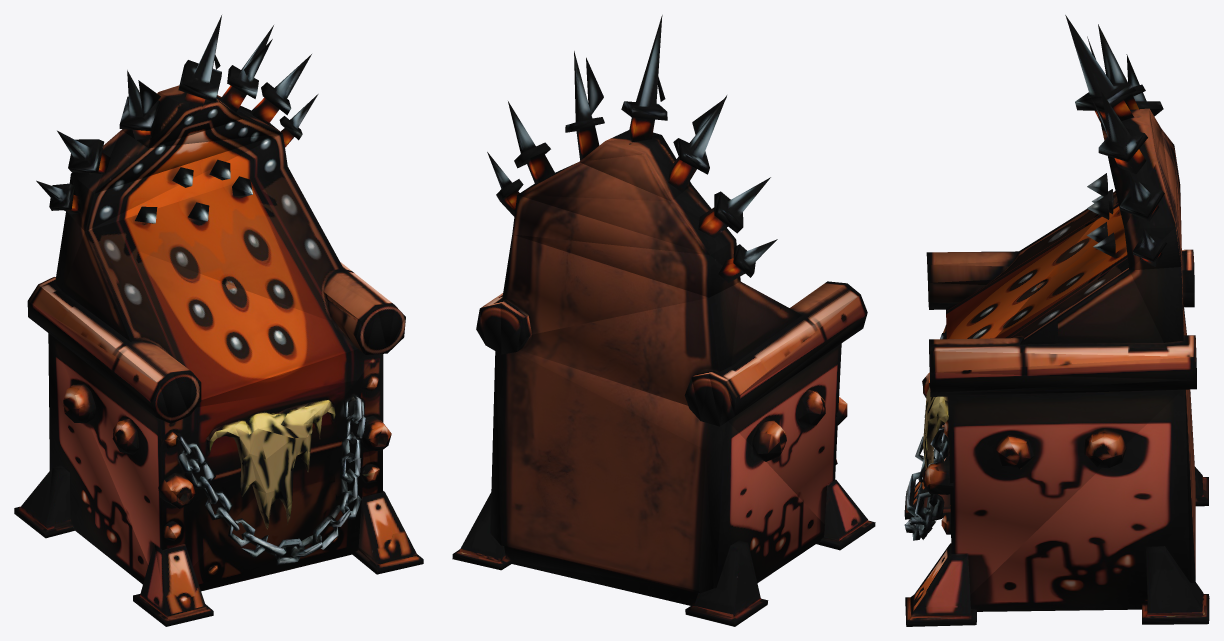
Rendered from seat_throne.glb.
The picture shows the model from 3 angles, left to right: view 1: azimuth 30°, elevation 25°; view 2: azimuth 150°, elevation 25°; view 3: azimuth 270°, elevation 25°; orthographic projection. The views are drawn at different scales.
Parts seen in each view (by area): view 1: tripo_node_3ef32aa9; view 2: tripo_node_3ef32aa9; view 3: tripo_node_3ef32aa9.
Boxes of the visible parts, <box> form: tripo_node_3ef32aa9: <box>14,15,423,626</box>; tripo_node_3ef32aa9: <box>452,15,875,626</box>; tripo_node_3ef32aa9: <box>904,15,1209,626</box>.
Bounding box in the file's own units: 0.5706 × 0.9984 × 0.5027.
Materials: 1 (1 with a texture image).
